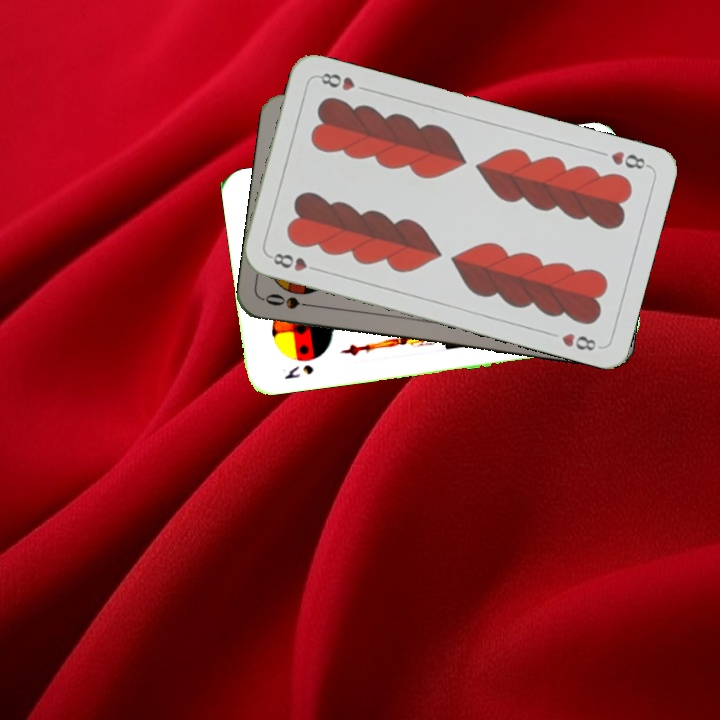H8: (265, 249, 323, 274), (607, 147, 652, 172)
SK: (281, 360, 316, 382)
SO: (261, 289, 320, 312)
